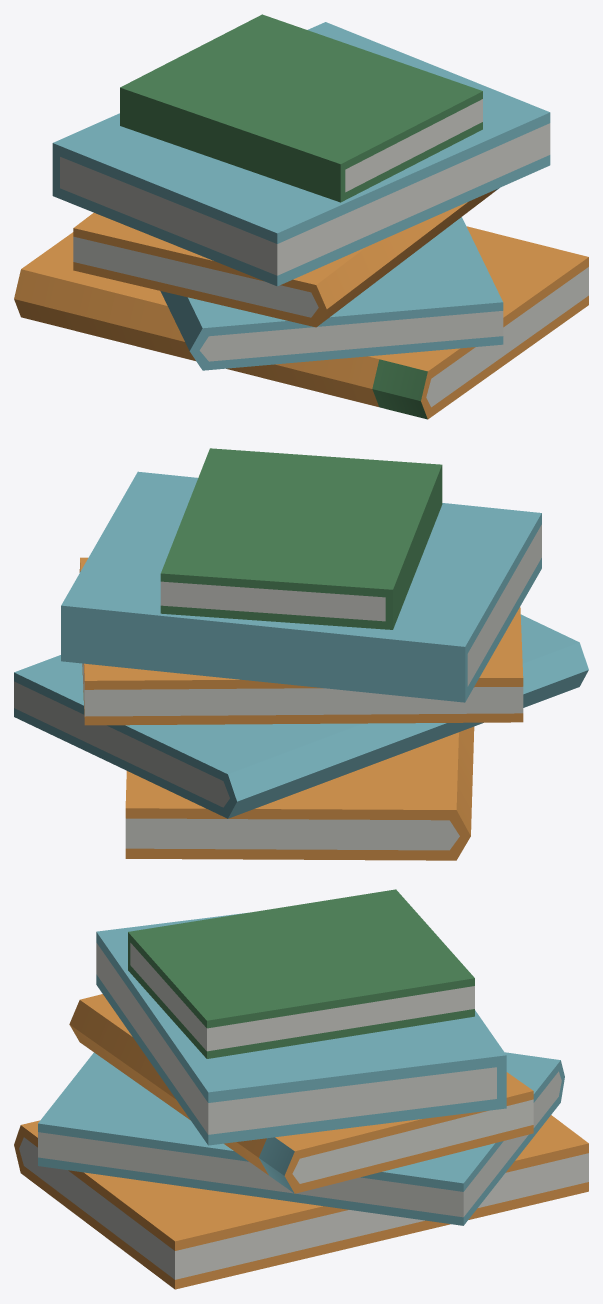
The model's file is Book_04.FBX.
3 renders of one model, top to bottom at view 1: azimuth 30°, elevation 25°; view 2: azimuth 150°, elevation 25°; view 3: azimuth 270°, elevation 25°, orthographic. The views are drawn at different scales.
Visible parts, largest first — view 1: Book_04; view 2: Book_04; view 3: Book_04.
Part boxes in pixels (<box>): Book_04: <box>14,14,588,419</box>; Book_04: <box>14,448,588,860</box>; Book_04: <box>14,889,588,1289</box>.
Size of the model in its own units: 39.1 by 18.68 by 43.29.
